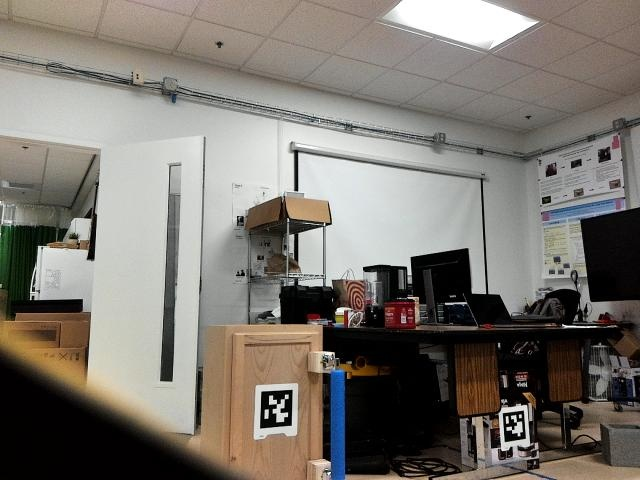noodle_handle: (322, 361, 352, 480)
